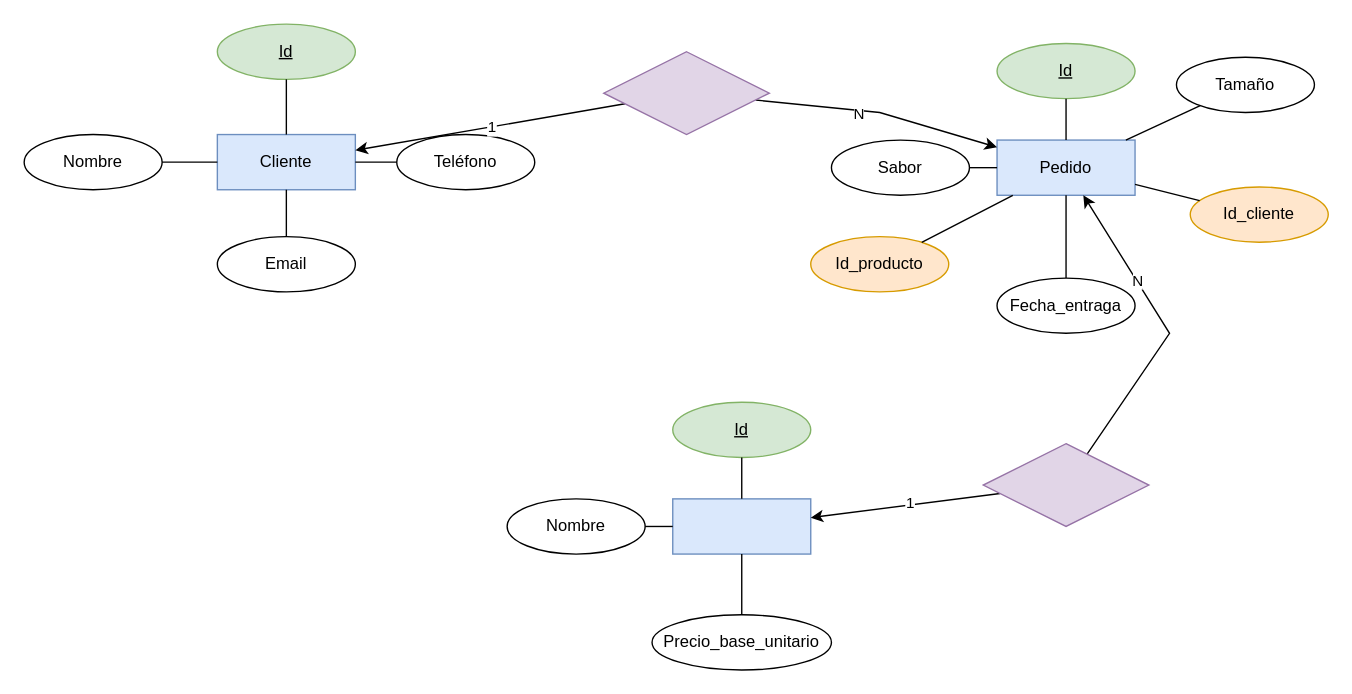
Some shapes in this 1352 by 694 pixel diagram are drawn without their labels. The centre of each missing label's shape, as x and y in pixels:
Corresponde: (x=1065, y=484)
Producto: (x=741, y=525)
Realiza: (x=685, y=92)
